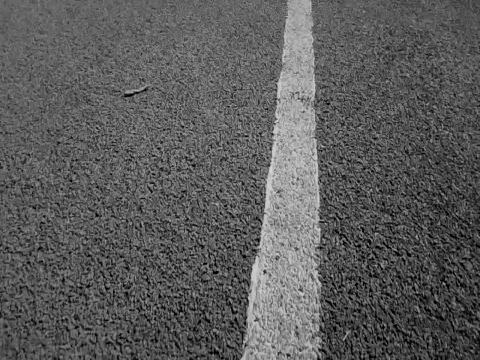Lines: (239, 0, 322, 360)
